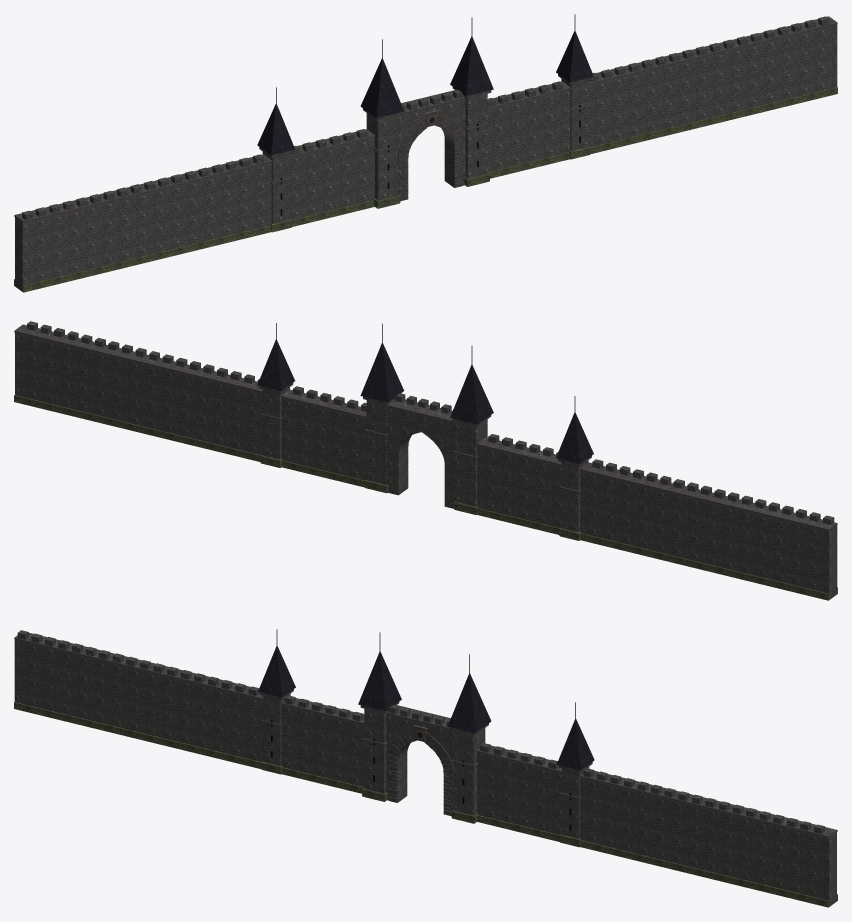
File: portal.glb
3 views of the same model, one above another, from view 1: azimuth 30°, elevation 25°; view 2: azimuth 150°, elevation 25°; view 3: azimuth 330°, elevation 25° (orthographic).
Parts seen in each view (by area): view 1: PortalMesh; view 2: PortalMesh; view 3: PortalMesh.
Boxes of the visible parts, bbox=[...] form: PortalMesh: bbox=[14, 14, 837, 292]; PortalMesh: bbox=[14, 321, 837, 600]; PortalMesh: bbox=[14, 629, 837, 907].
Size of the model in its own units: 120 by 22.86 by 4.23.
6 materials, 5 textured.
